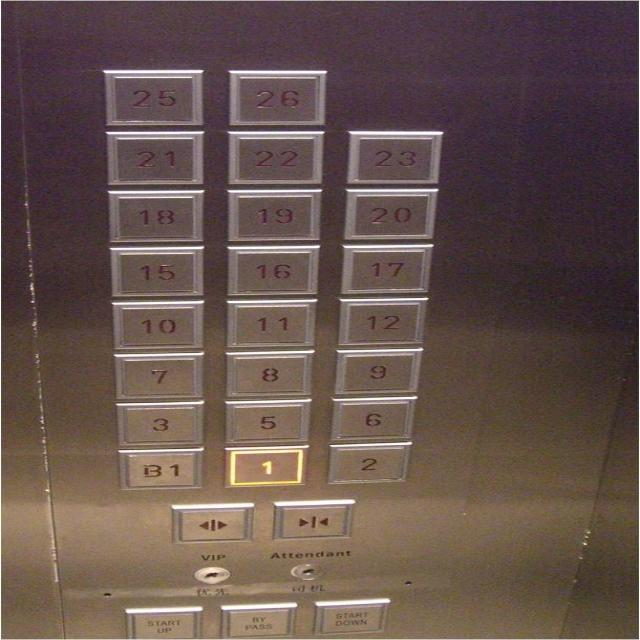1: (224, 444, 308, 488)
10: (111, 299, 205, 349)
11: (222, 297, 314, 348)
12: (335, 296, 427, 346)
15: (106, 246, 205, 296)
16: (223, 244, 319, 297)
17: (338, 242, 431, 294)
18: (102, 188, 206, 242)
19: (224, 187, 319, 241)
2: (325, 441, 410, 482)
20: (342, 188, 439, 238)
21: (104, 128, 204, 185)
22: (226, 130, 322, 184)
23: (344, 130, 443, 183)
25: (100, 68, 204, 125)
26: (227, 68, 326, 125)
3: (112, 400, 205, 445)
5: (222, 398, 312, 444)
6: (329, 395, 414, 439)
7: (110, 351, 203, 398)
8: (222, 349, 310, 397)
9: (332, 346, 420, 393)
B1: (114, 446, 204, 490)
close: (270, 498, 354, 540)
keyhole: (192, 566, 234, 584), (290, 563, 325, 580)
open: (168, 502, 254, 543)
text: (219, 601, 297, 638), (313, 597, 389, 634), (122, 606, 204, 639)
